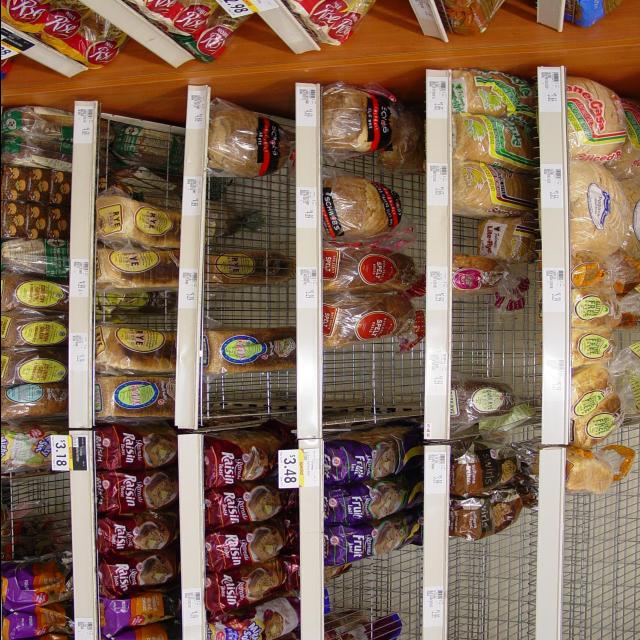empty_space: (573, 496, 640, 636), (448, 541, 533, 640), (453, 309, 531, 377), (321, 354, 415, 409), (208, 181, 286, 247), (19, 473, 69, 543), (210, 372, 294, 408), (210, 286, 282, 326)
